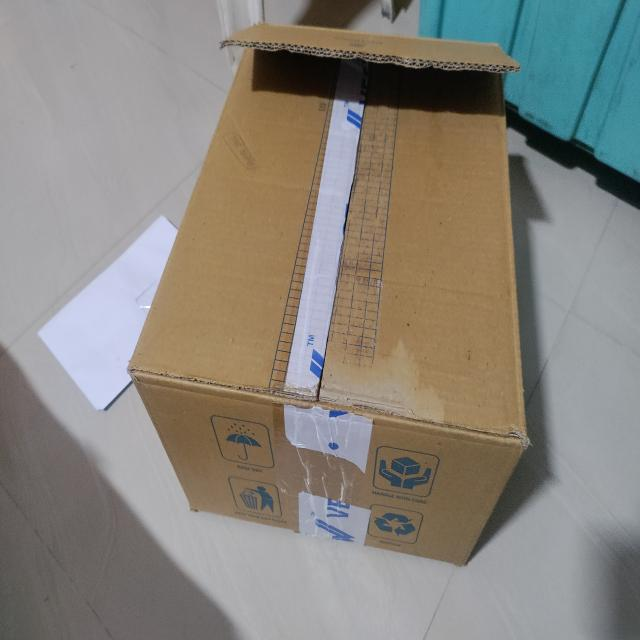dry: (132, 23, 531, 571)
